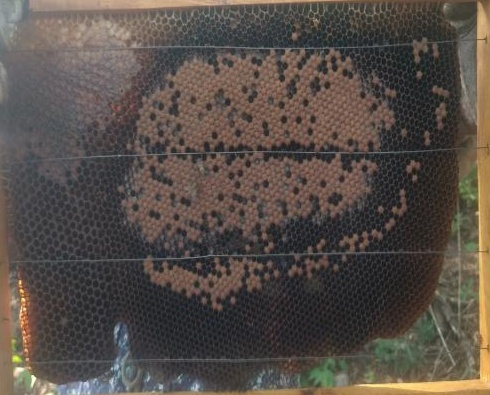cria: (100, 34, 452, 309)
